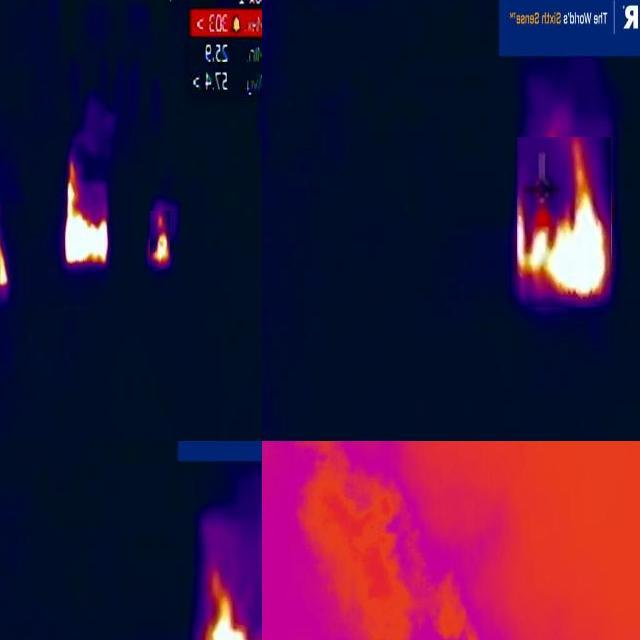fire: (517, 137, 611, 307), (63, 163, 107, 263), (196, 584, 263, 640), (150, 211, 170, 269), (1, 180, 9, 291)
